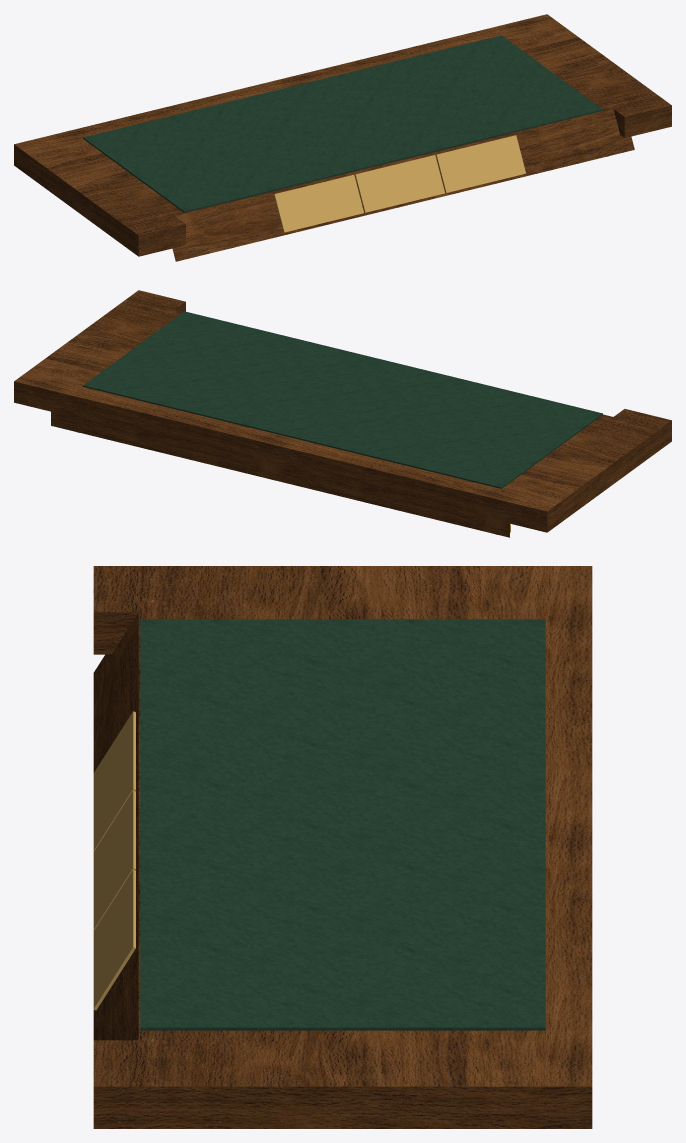
The picture shows the model from 3 angles, top to bottom: view 1: azimuth 30°, elevation 25°; view 2: azimuth 150°, elevation 25°; view 3: azimuth 270°, elevation 25°; orthographic projection. The views are drawn at different scales.
Visible parts, largest first — view 1: base; view 2: base; view 3: base.
Part boxes in pixels (x1=…): base: x1=14, y1=14, x2=671, y2=261; base: x1=14, y1=290, x2=671, y2=537; base: x1=93, y1=566, x2=592, y2=1128.
Size of the model in its own units: 0.79 by 0.062 by 0.32.
3 materials, 2 textured.
